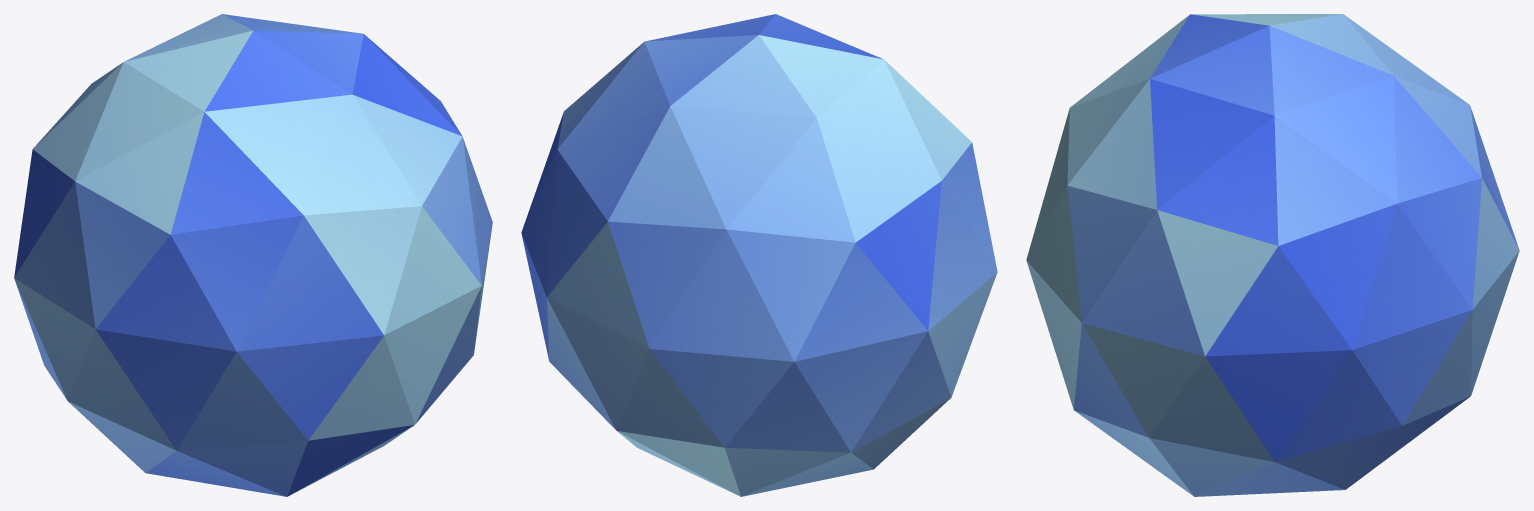
Rendered from iceball.fbx.
The picture shows the model from 3 angles, left to right: view 1: azimuth 30°, elevation 25°; view 2: azimuth 150°, elevation 25°; view 3: azimuth 270°, elevation 25°; orthographic projection. The views are drawn at different scales.
Visible parts, largest first — view 1: iceball; view 2: iceball; view 3: iceball.
Part boxes in pixels (box(x1,y1,x2,y2)): iceball: box(14, 14, 492, 496); iceball: box(521, 14, 997, 496); iceball: box(1026, 14, 1519, 496).
Bounding box in the file's own units: 1.14 × 1.17 × 1.14.
1 material, 1 textured.
